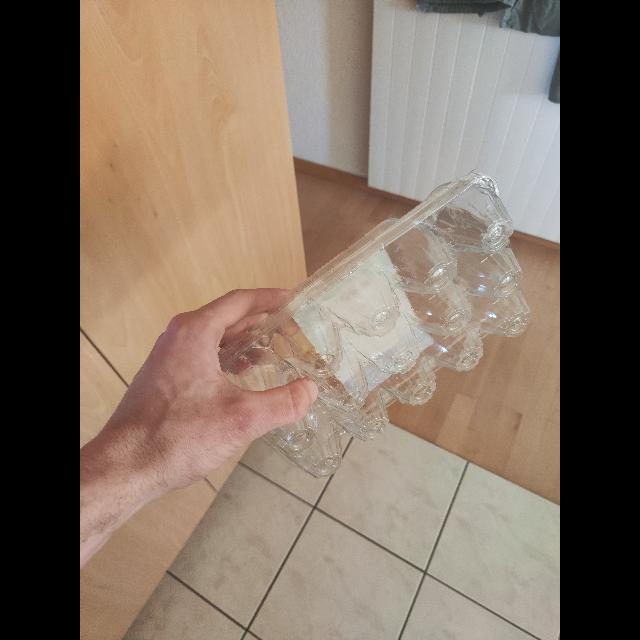Plastic: (218, 170, 534, 480)
